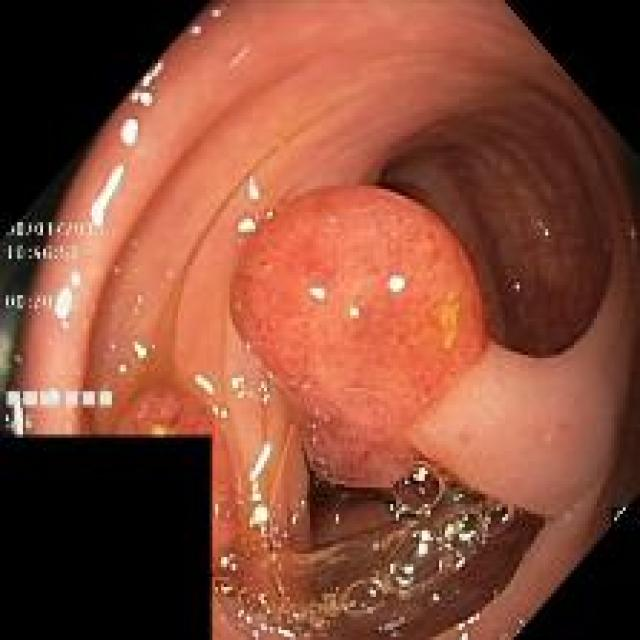Polyps: (232, 186, 491, 488)
